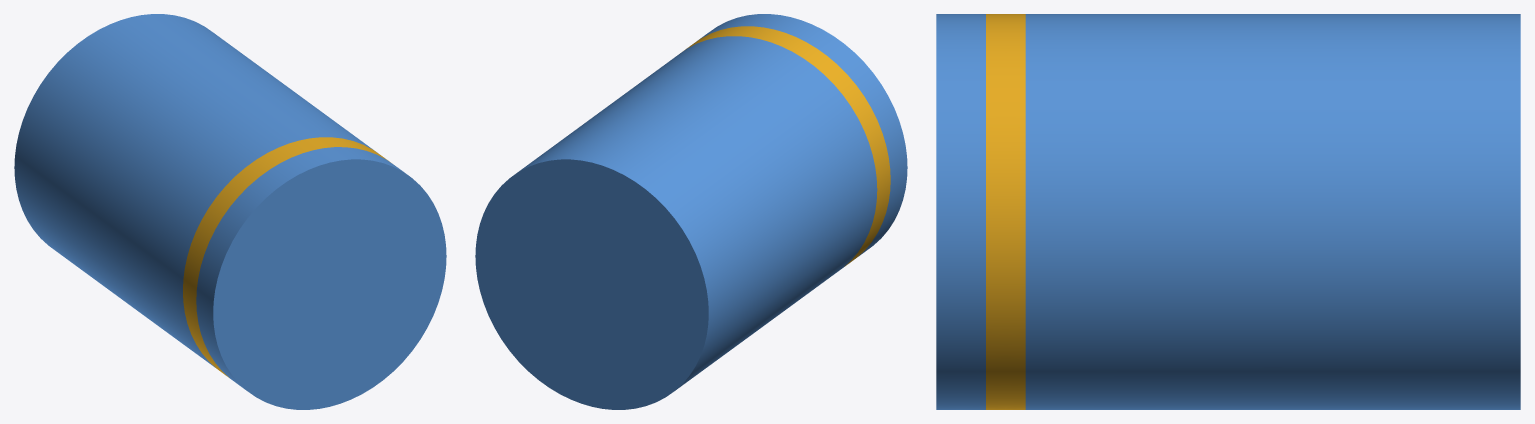
File: Can.fbx
3 renders of one model, left to right at view 1: azimuth 30°, elevation 25°; view 2: azimuth 150°, elevation 25°; view 3: azimuth 270°, elevation 25°, orthographic. The views are drawn at different scales.
Visible parts, largest first — view 1: Body5, Body7, Body6; view 2: Body5, Body7, Body6; view 3: Body5, Body7, Body6.
Part boxes in pixels (<box>): Body5: <box>14,14,377,367</box>; Body7: <box>196,147,446,409</box>; Body6: <box>183,137,390,377</box>; Body5: <box>475,36,877,409</box>; Body7: <box>696,14,907,256</box>; Body6: <box>682,26,890,266</box>; Body5: <box>1025,14,1520,409</box>; Body7: <box>936,14,985,409</box>; Body6: <box>986,14,1025,409</box>.
Size of the model in its own units: 20 by 20 by 29.5.
